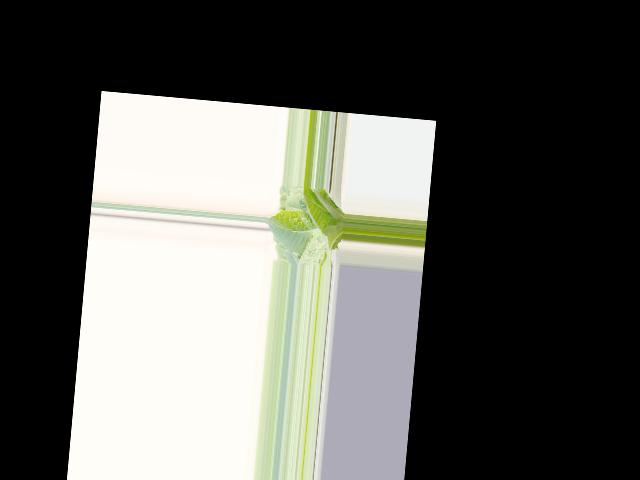lettuce: (270, 185, 347, 260)
